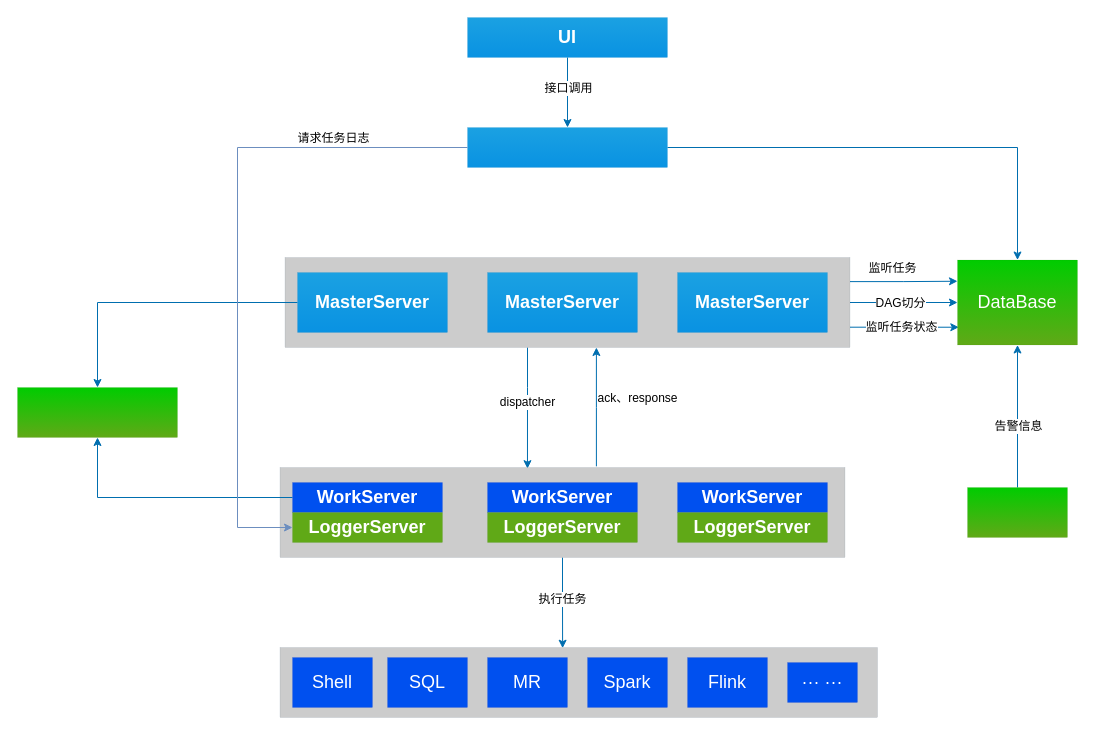
The diagram is 1094 pixels wide and 734 high, and some of its shapes have lost their labels. The shapes that lost their labels are listed below. From the top down, each one's centre as x and y in pixels, then its label:
pixel 567 147: API
pixel 97 412: Zookeeper
pixel 1017 512: Alert
